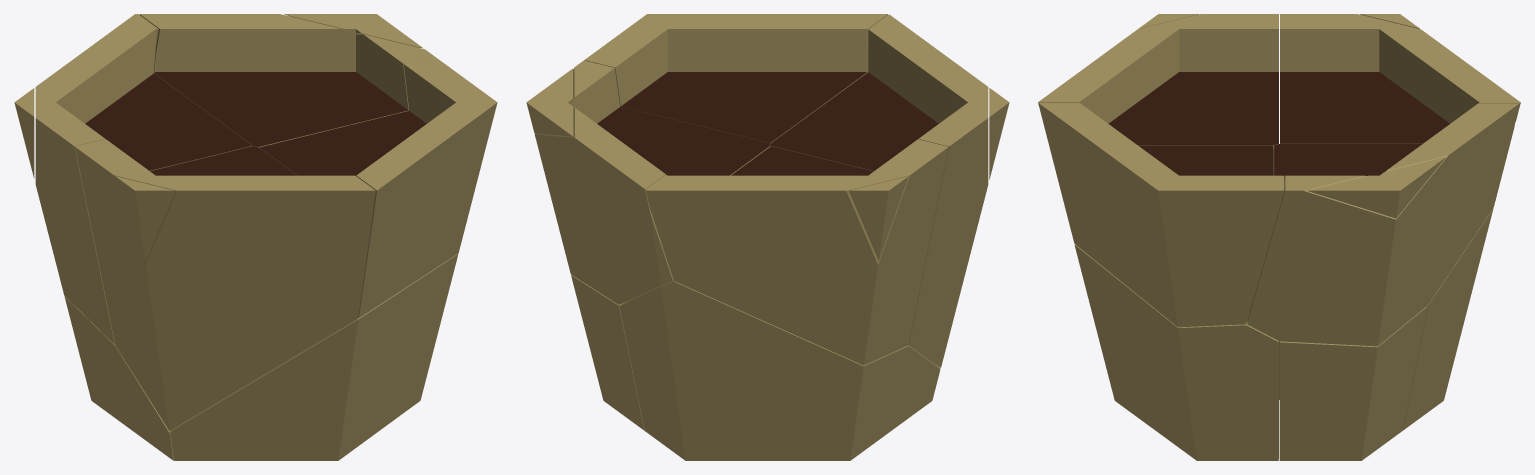
File: pandemonium_hanging_plant_fractured.fbx
The picture shows the model from 3 angles, left to right: view 1: azimuth 30°, elevation 25°; view 2: azimuth 150°, elevation 25°; view 3: azimuth 270°, elevation 25°; orthographic projection.
Visible parts, largest first — view 1: Cylinder.016_cell.007, Cylinder.016_cell.006, Cylinder.016_cell.009, Cylinder.016_cell.005, Cylinder.016_cell.002, Cylinder.016_cell.003, Cylinder.016_cell.008, Cylinder.016_cell.004, Cylinder.016_cell.001; view 2: Cylinder.016_cell.002, Cylinder.016_cell.003, Cylinder.016_cell.007, Cylinder.016_cell.005, Cylinder.016_cell.009, Cylinder.016_cell, Cylinder.016_cell.001, Cylinder.016_cell.004, Cylinder.016_cell.008; view 3: Cylinder.016_cell.009, Cylinder.016_cell.005, Cylinder.016_cell.006, Cylinder.016_cell.007, Cylinder.016_cell.002, Cylinder.016_cell, Cylinder.016_cell.003, Cylinder.016_cell.004.
Part boxes in pixels (x1=…): Cylinder.016_cell.007: x1=75, y1=139, x2=375, y2=430; Cylinder.016_cell.006: x1=170, y1=254, x2=458, y2=460; Cylinder.016_cell.009: x1=139, y1=14, x2=433, y2=147; Cylinder.016_cell.005: x1=259, y1=56, x2=497, y2=317; Cylinder.016_cell.002: x1=35, y1=14, x2=251, y2=344; Cylinder.016_cell.003: x1=64, y1=296, x2=173, y2=460; Cylinder.016_cell.008: x1=115, y1=176, x2=175, y2=261; Cylinder.016_cell.004: x1=284, y1=14, x2=422, y2=47; Cylinder.016_cell.001: x1=14, y1=88, x2=34, y2=178; Cylinder.016_cell.002: x1=646, y1=139, x2=948, y2=365; Cylinder.016_cell.003: x1=619, y1=281, x2=940, y2=460; Cylinder.016_cell.007: x1=771, y1=14, x2=988, y2=367; Cylinder.016_cell.005: x1=584, y1=14, x2=887, y2=145; Cylinder.016_cell.009: x1=534, y1=60, x2=770, y2=304; Cylinder.016_cell: x1=571, y1=275, x2=644, y2=430; Cylinder.016_cell.001: x1=849, y1=176, x2=908, y2=260; Cylinder.016_cell.004: x1=526, y1=68, x2=573, y2=136; Cylinder.016_cell.008: x1=989, y1=88, x2=1009, y2=179; Cylinder.016_cell.009: x1=1247, y1=104, x2=1518, y2=346; Cylinder.016_cell.005: x1=1038, y1=102, x2=1284, y2=327; Cylinder.016_cell.006: x1=1074, y1=244, x2=1278, y2=460; Cylinder.016_cell.007: x1=1038, y1=14, x2=1278, y2=149; Cylinder.016_cell.002: x1=1280, y1=14, x2=1520, y2=143; Cylinder.016_cell: x1=1279, y1=306, x2=1427, y2=460; Cylinder.016_cell.003: x1=1279, y1=208, x2=1493, y2=430; Cylinder.016_cell.004: x1=1307, y1=156, x2=1446, y2=218.
Size of the model in its own units: 79.74 by 62.73 by 92.01.
